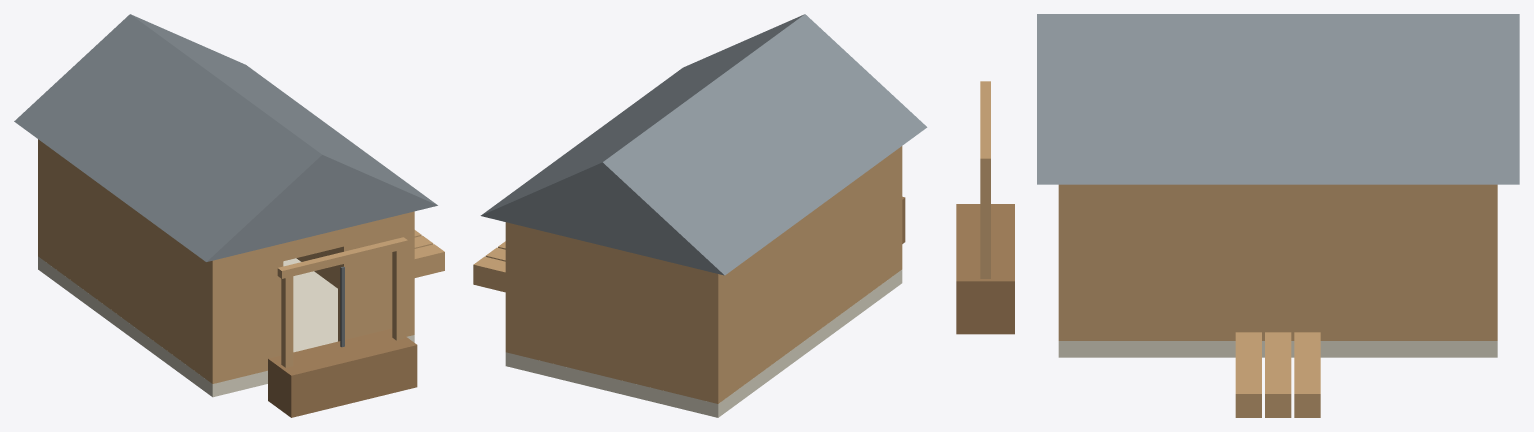
The model's file is sawmill.glb.
3 renders of one model, left to right at view 1: azimuth 30°, elevation 25°; view 2: azimuth 150°, elevation 25°; view 3: azimuth 270°, elevation 25°, orthographic. The views are drawn at different scales.
Parts seen in each view (by area): view 1: sawmill; view 2: sawmill; view 3: sawmill.
Part boxes in pixels (x1,y1,x2,y2): sawmill: [14, 14, 444, 417]; sawmill: [473, 14, 927, 417]; sawmill: [956, 14, 1519, 417].
Size of the model in its own units: 6.3 by 4.25 by 7.7.
